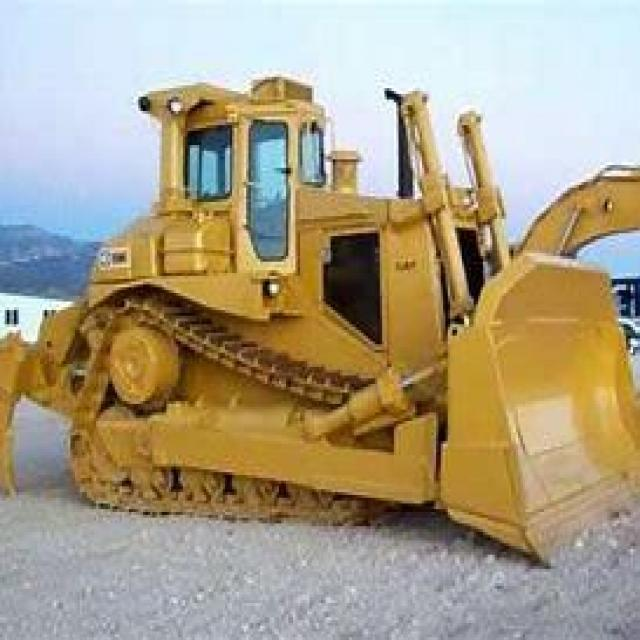Bulldozer: (5, 60, 638, 560)
